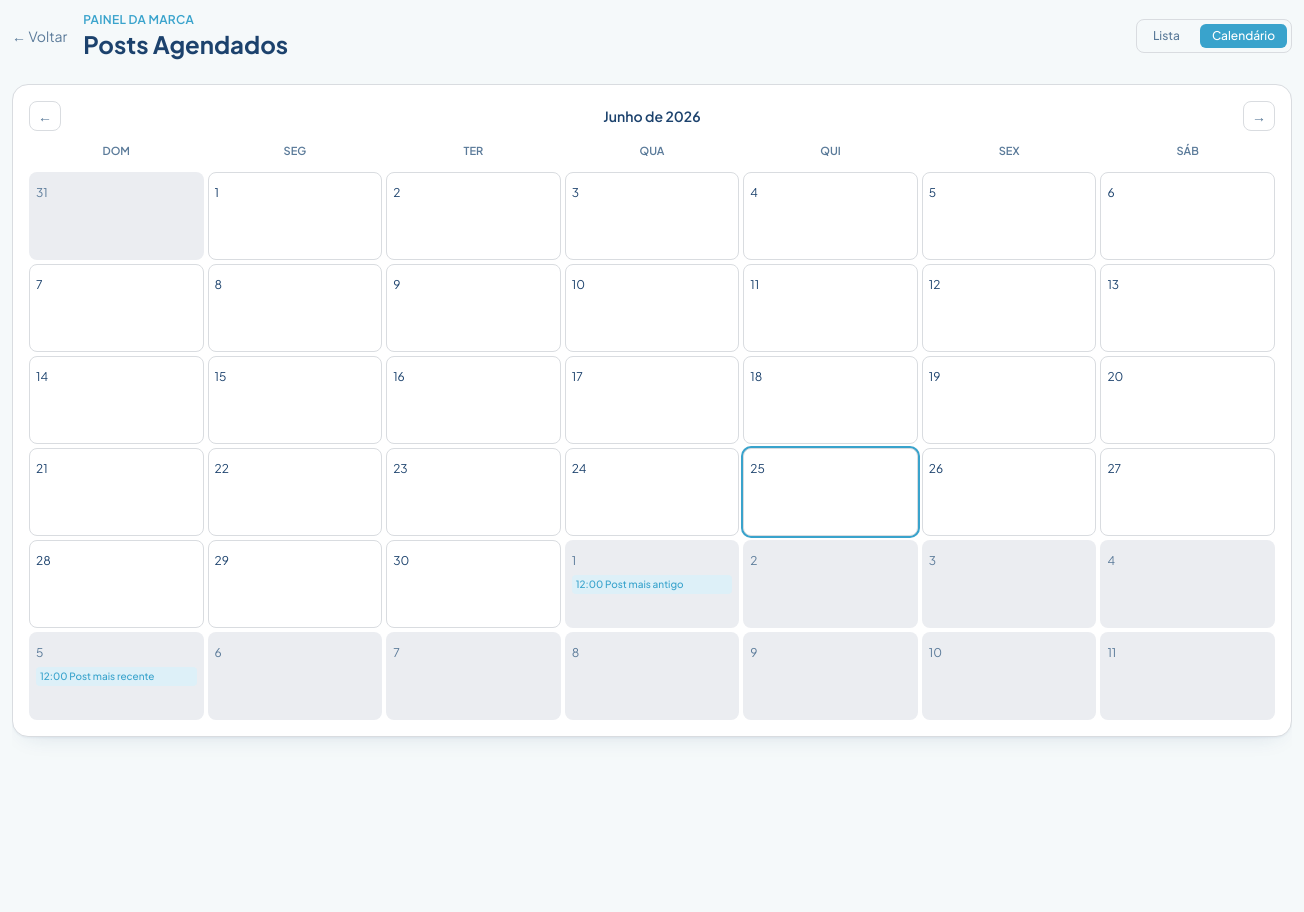
Test: ScheduledPostsPage › ordenação da lista › mostra o post mais recente primeiro por padrão
Click the button "Lista" at [1166, 36], box [1141,24,1192,48]
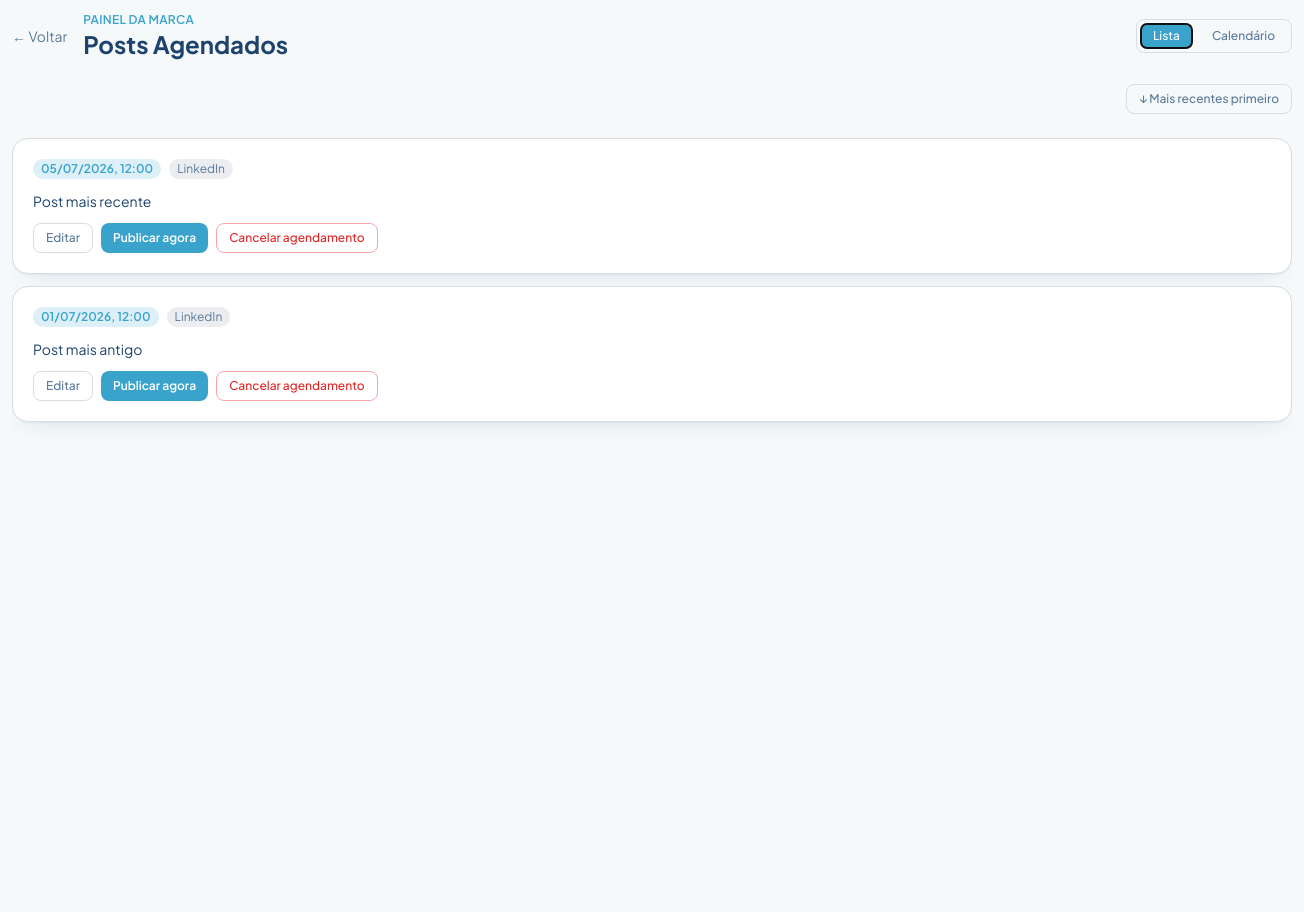
Expected: the text "Post mais recente" is shown, [33,192,151,210]
Expected: the button "↓ Mais recentes primeiro" is shown, [1126,84,1292,114]
